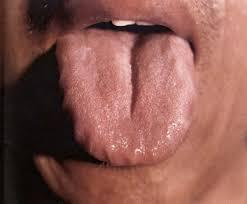baitaishe: (55, 28, 196, 167)
chihenshe: (57, 81, 91, 154)
liewenshe: (125, 39, 142, 120)
